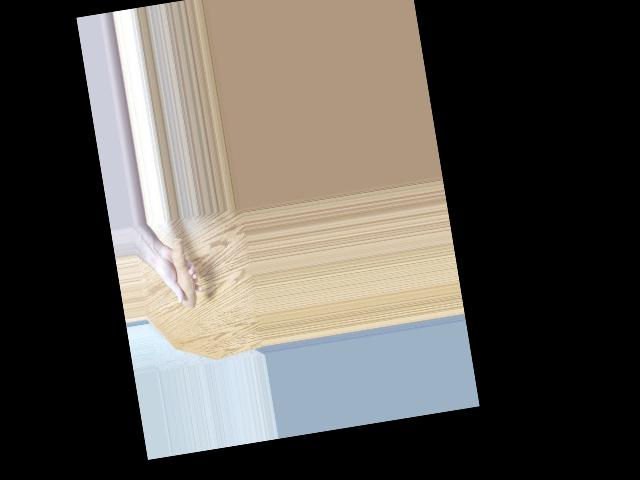sweet_potato: (160, 233, 201, 317)
